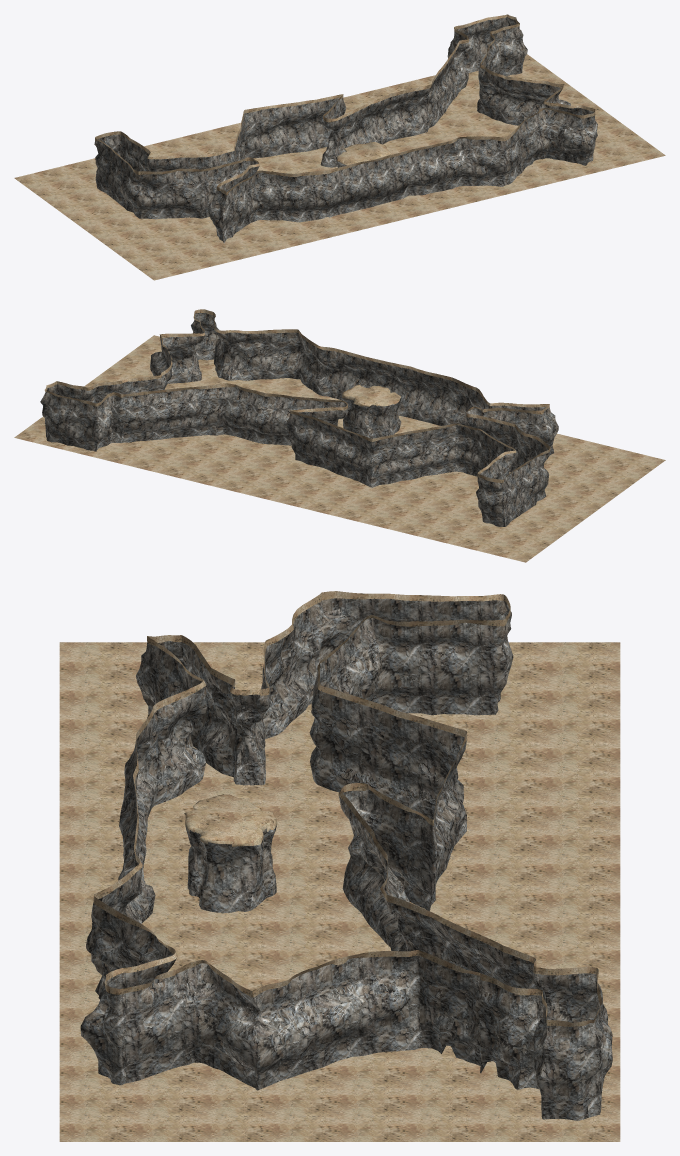
File: canyon.fbx
3 views of the same model, one above another, from view 1: azimuth 30°, elevation 25°; view 2: azimuth 150°, elevation 25°; view 3: azimuth 270°, elevation 25° (orthographic). The views are drawn at different scales.
Parts seen in each view (by area): view 1: canyon.001, canyon; view 2: canyon.001, canyon; view 3: canyon, canyon.001.
Boxes of the visible parts, x1,y1,x2,y2 form: canyon.001: (94, 17, 597, 243); canyon: (14, 14, 665, 280); canyon.001: (40, 313, 558, 526); canyon: (14, 309, 665, 562); canyon: (59, 591, 620, 1141); canyon.001: (80, 598, 612, 1120).
Size of the model in its own units: 30897 by 2843 by 14645.
Materials: 2 (2 with a texture image).
